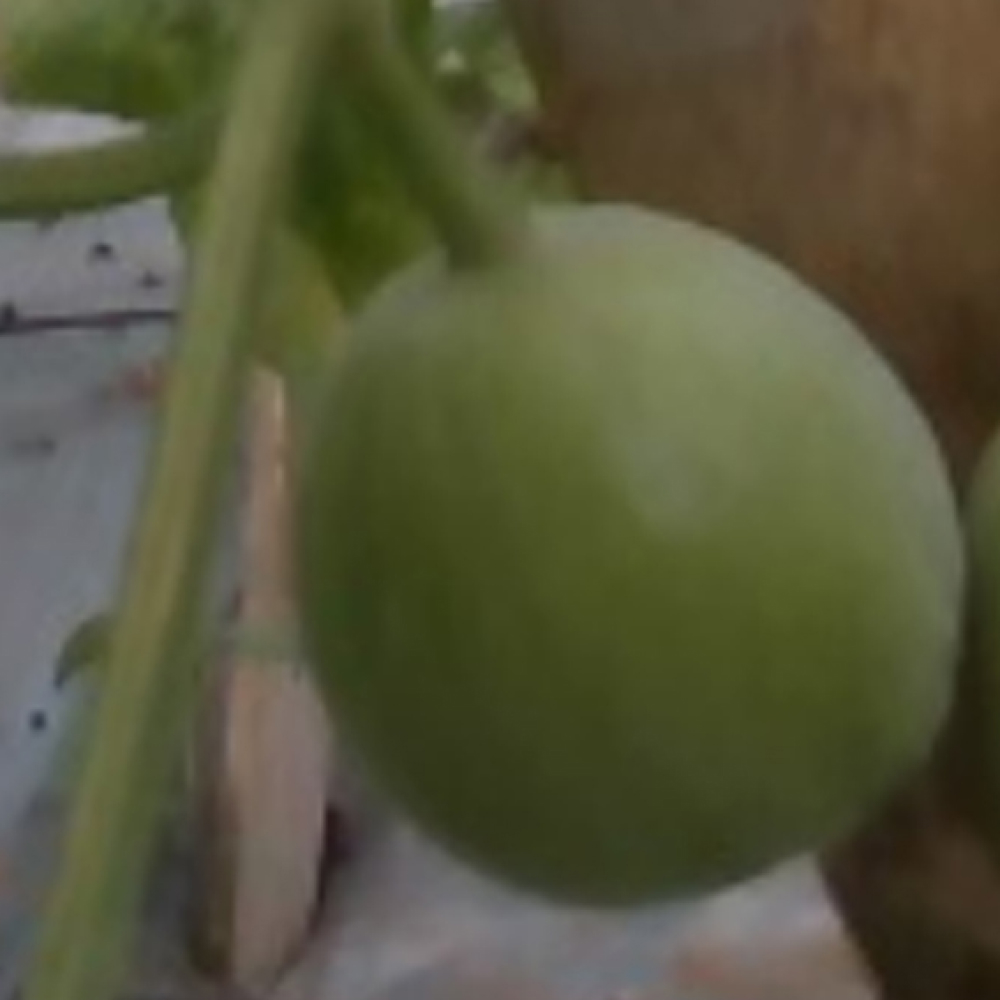melon: (285, 195, 975, 926)
